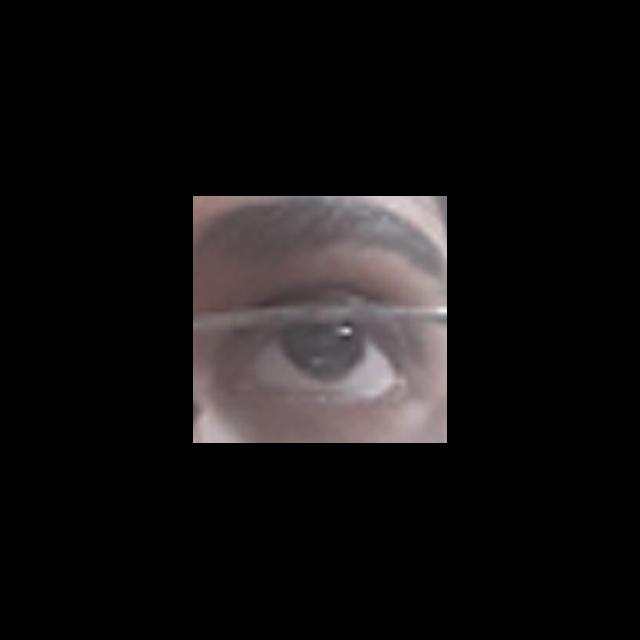eye: (245, 324, 399, 400)
iris: (279, 325, 367, 375)
